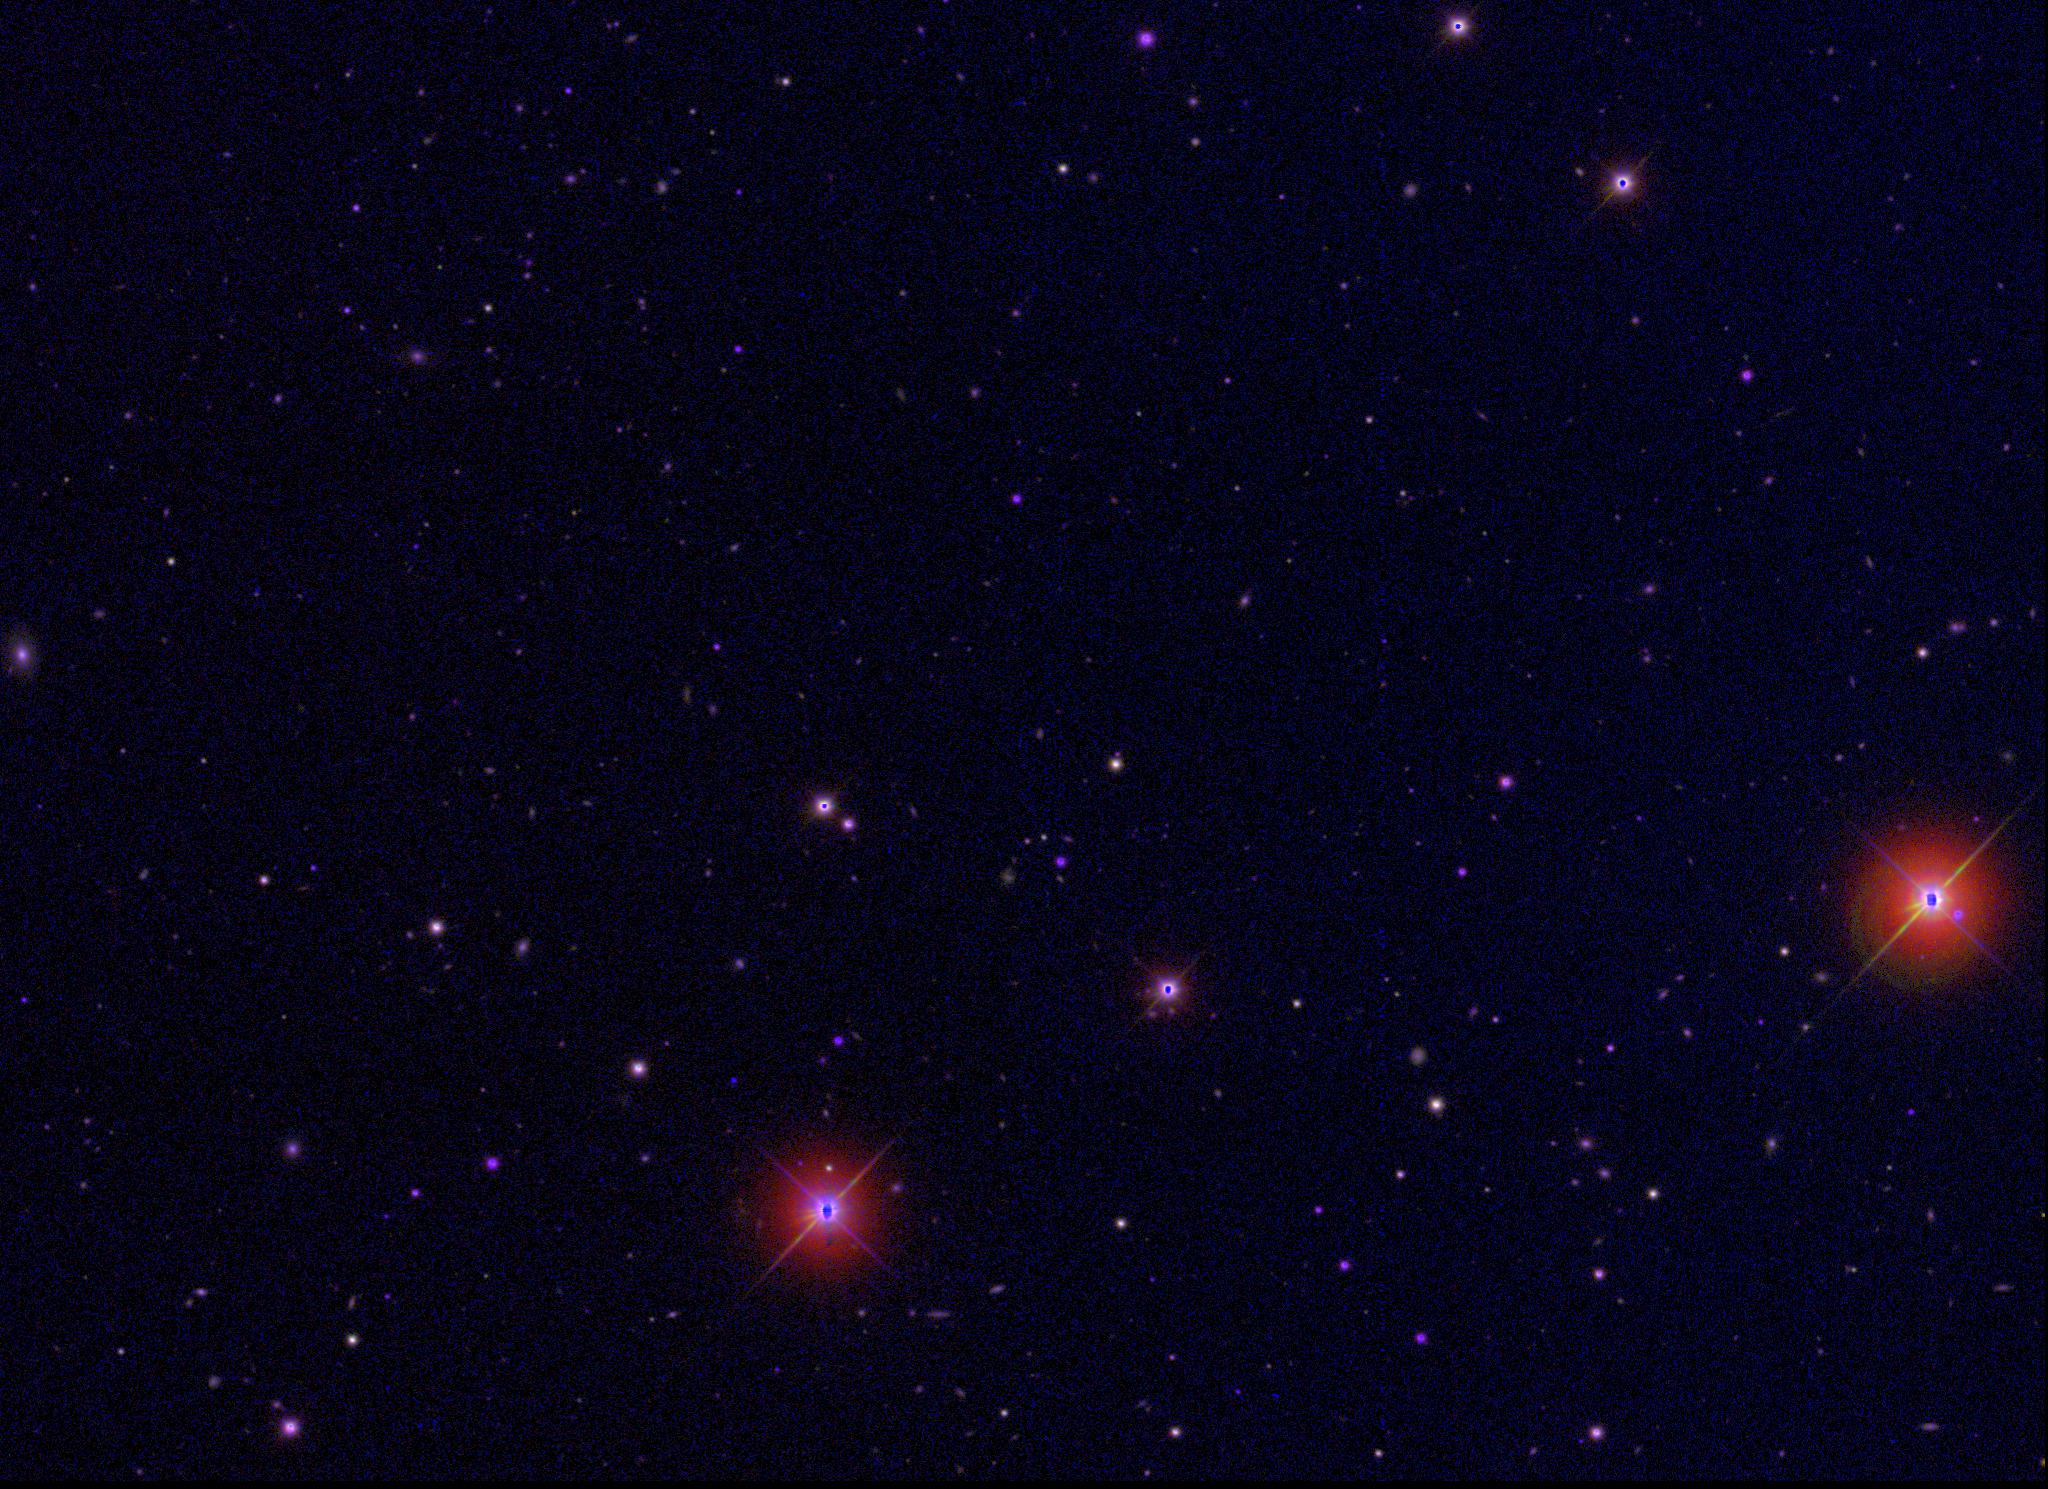L: (727, 1074, 739, 1088)
